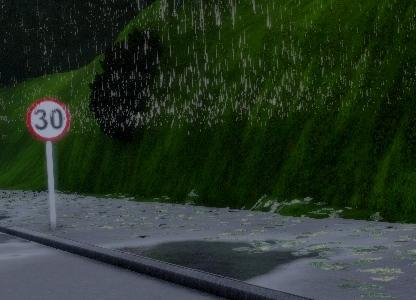Speed_30: (23, 94, 72, 142)
